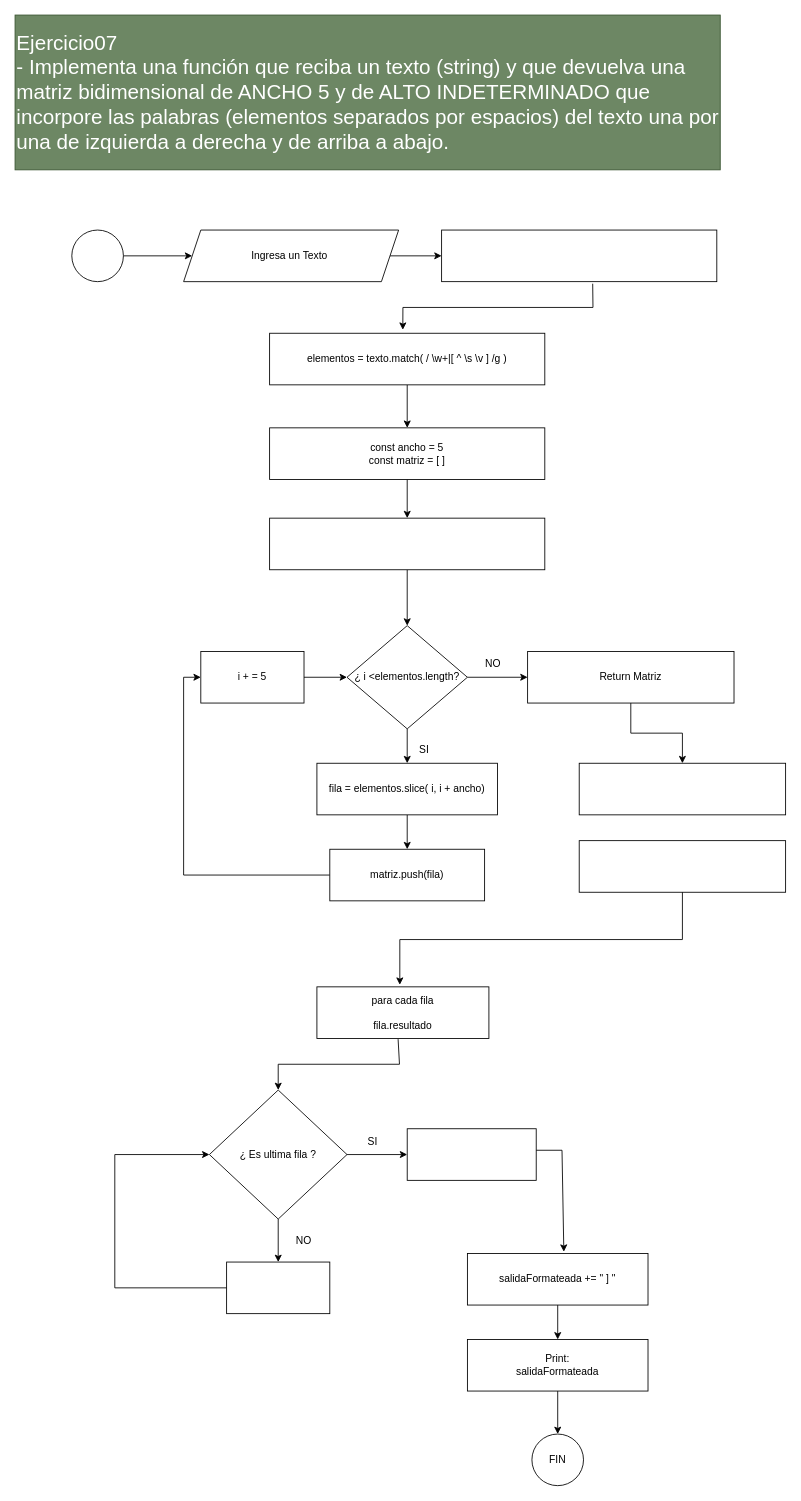
Some shapes in this 801 by 1501 pixel diagram are drawn without their labels. Each missing label, with the centre of its shape:
agregar ", \n ": the point at 278,1287
cerrar con " ] ": the point at 471,1154
funcion = textoAMatriz(texto): the point at 579,255
i = 0: the point at 407,543
INICIO: the point at 97,255
resultado = textoAMatriz(): the point at 682,788
salidaFormateada = " [ ": the point at 682,866
